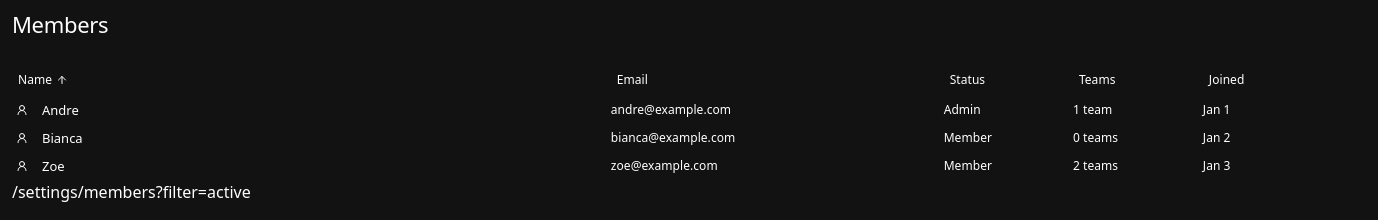
MembersPage › carrega tabela e grava ordenação nos search params
The image size is (1378, 220).
Expected: the row "Andre andre@example.com Admin 1 team Jan 1" is shown, [12, 96, 1377, 124]
Expected: the row "Bianca bianca@example.com Member 0 teams Jan 2" is shown, [12, 124, 1377, 152]
Click the button "Name" at (43, 80), box [12, 68, 74, 92]
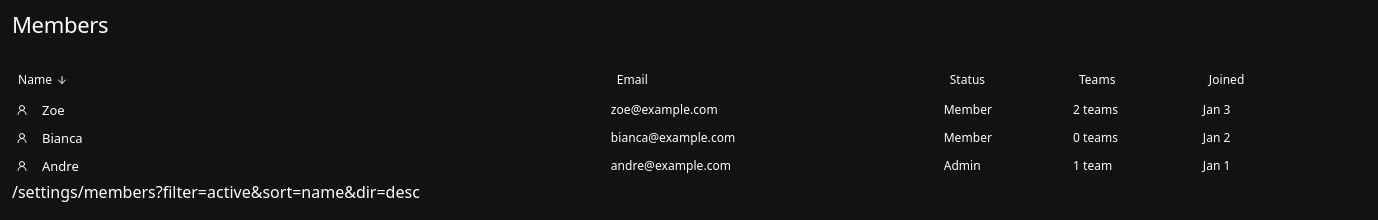
Expected: the row "Zoe zoe@example.com Member 2 teams Jan 3" is shown, [12, 96, 1377, 124]
Expected: the text named "Current URL" reads "/settings/members?filter=active&sort=name&dir=desc", [12, 181, 420, 203]
